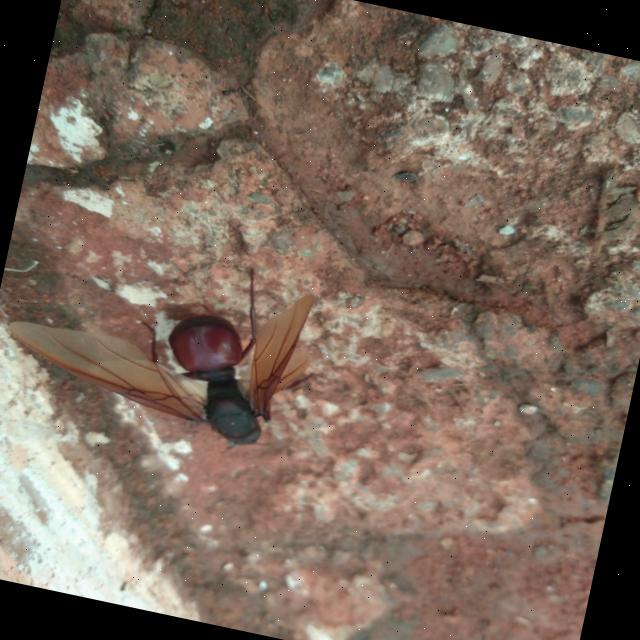Alive-Female-Alate: (0, 219, 332, 469)
